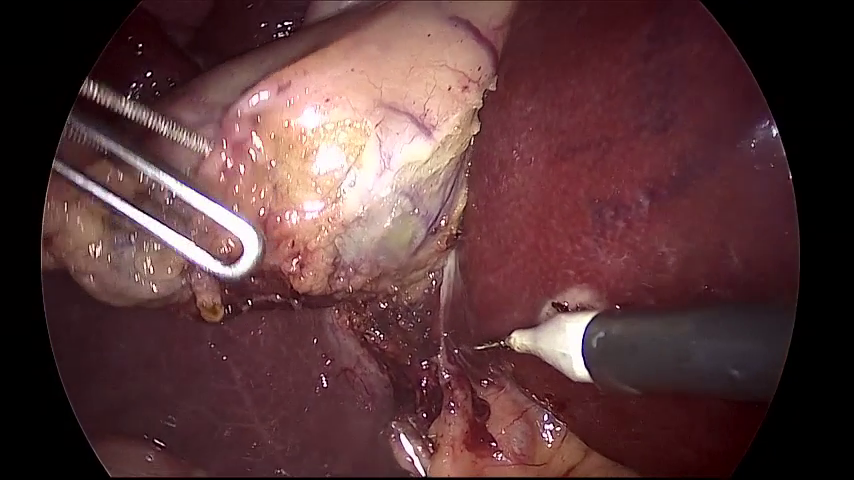grasper: (53, 75, 258, 276)
lhook: (477, 301, 797, 403)
